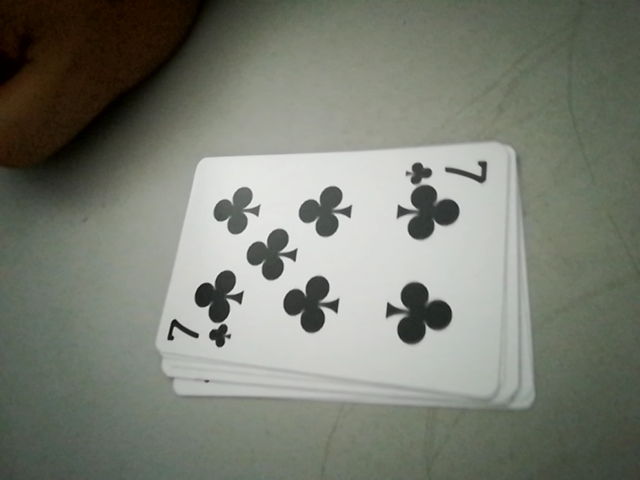mh 7: (405, 154, 497, 191), (162, 315, 237, 356)
